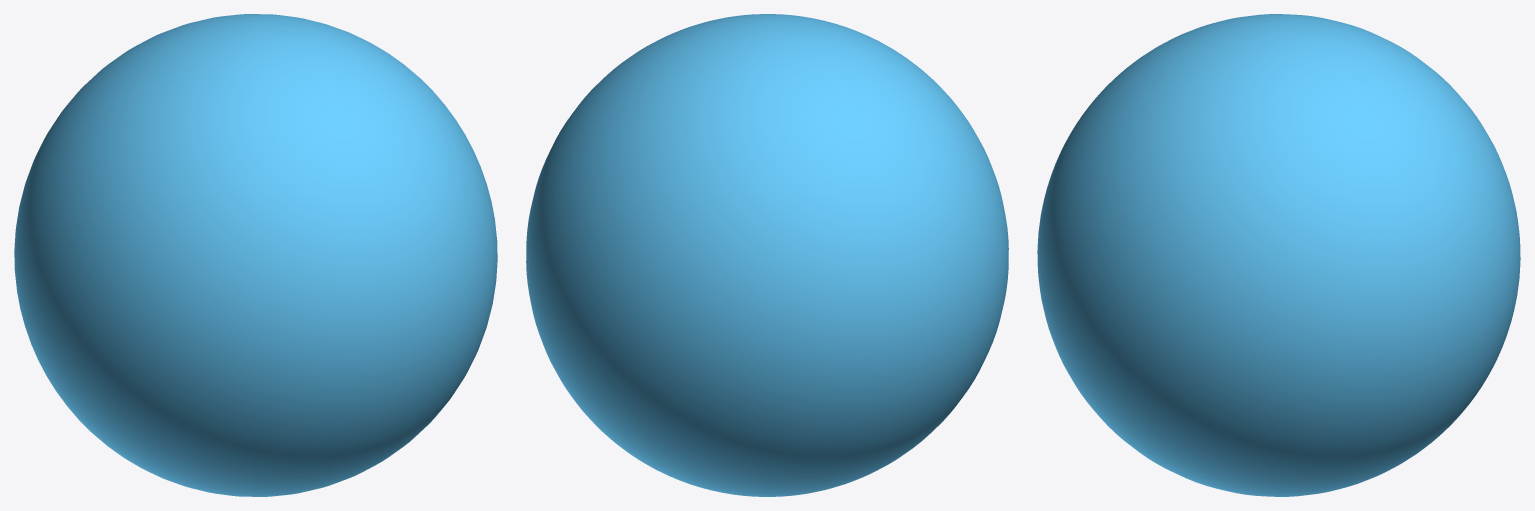
File: cell-model.glb
3 views of the same model, side by side, from view 1: azimuth 30°, elevation 25°; view 2: azimuth 150°, elevation 25°; view 3: azimuth 270°, elevation 25° (orthographic).
Size of the model in its own units: 8 by 8 by 8.
